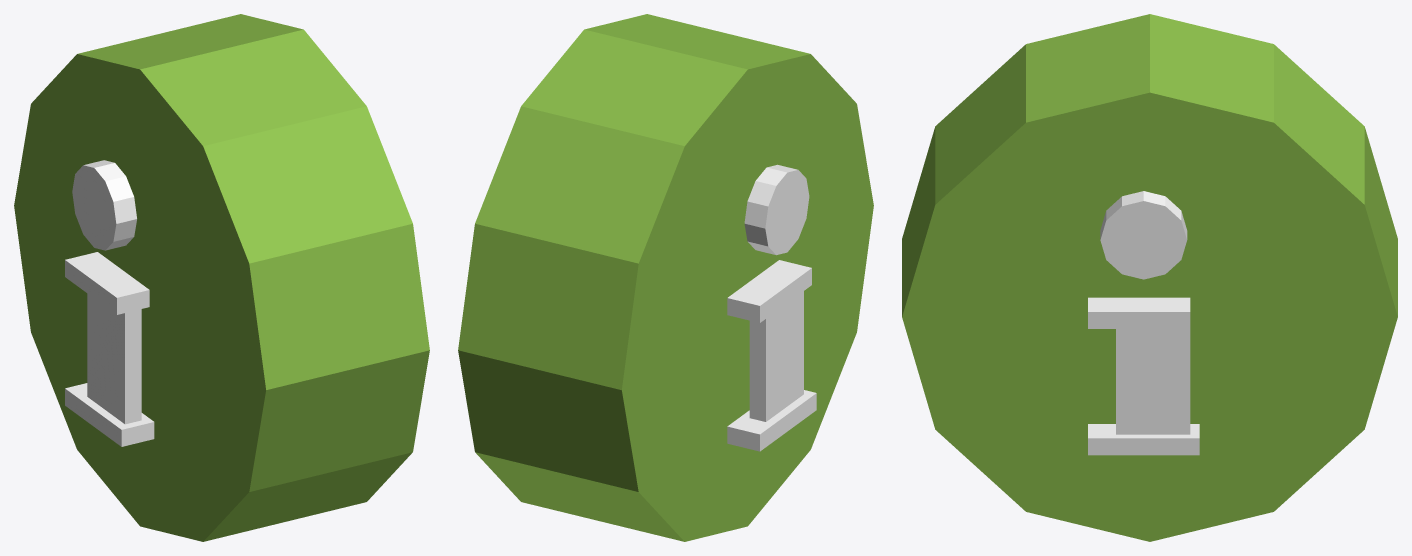
Rendered from info_button.glb.
3 renders of one model, left to right at view 1: azimuth 30°, elevation 25°; view 2: azimuth 150°, elevation 25°; view 3: azimuth 270°, elevation 25°, orthographic.
Parts seen in each view (by area): view 1: group1236340163, group1333965752; view 2: group1236340163, group1333965752; view 3: group1236340163, group1771391850.
Boxes of the visible parts, x1=… form: group1236340163: x1=14, y1=14, x2=429, y2=541; group1333965752: x1=65, y1=160, x2=154, y2=446; group1236340163: x1=458, y1=14, x2=873, y2=541; group1333965752: x1=727, y1=164, x2=816, y2=451; group1236340163: x1=902, y1=14, x2=1397, y2=541; group1771391850: x1=1088, y1=191, x2=1199, y2=455.
Size of the model in its own units: 0.2175 by 0.4 by 0.4.
